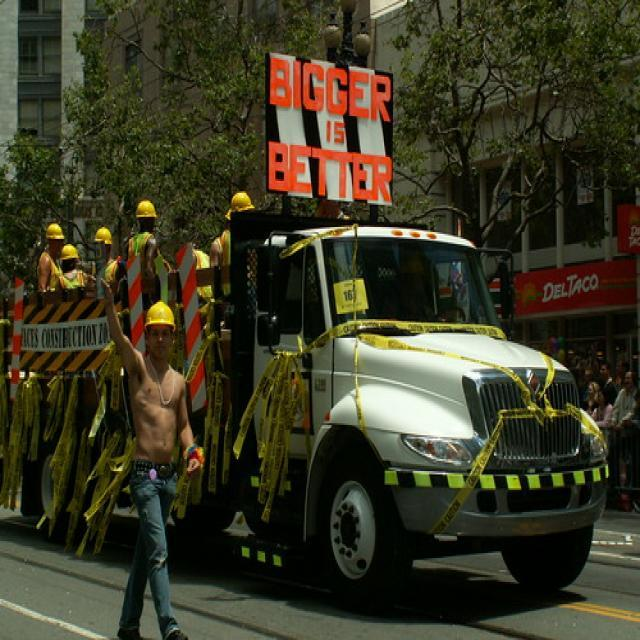reflective_jacket: (123, 228, 164, 307), (34, 249, 64, 297)
safety_helmet: (140, 298, 179, 332), (131, 196, 162, 223), (90, 221, 116, 249), (42, 218, 67, 244), (59, 240, 82, 264)
